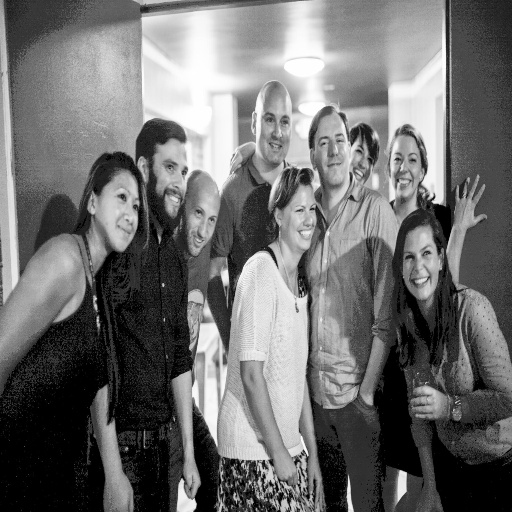hand: (456, 174, 491, 254), (409, 382, 448, 423), (102, 471, 135, 511), (306, 454, 326, 511), (272, 448, 298, 487), (227, 141, 255, 177), (182, 456, 201, 500), (414, 484, 443, 511), (360, 390, 373, 407)
